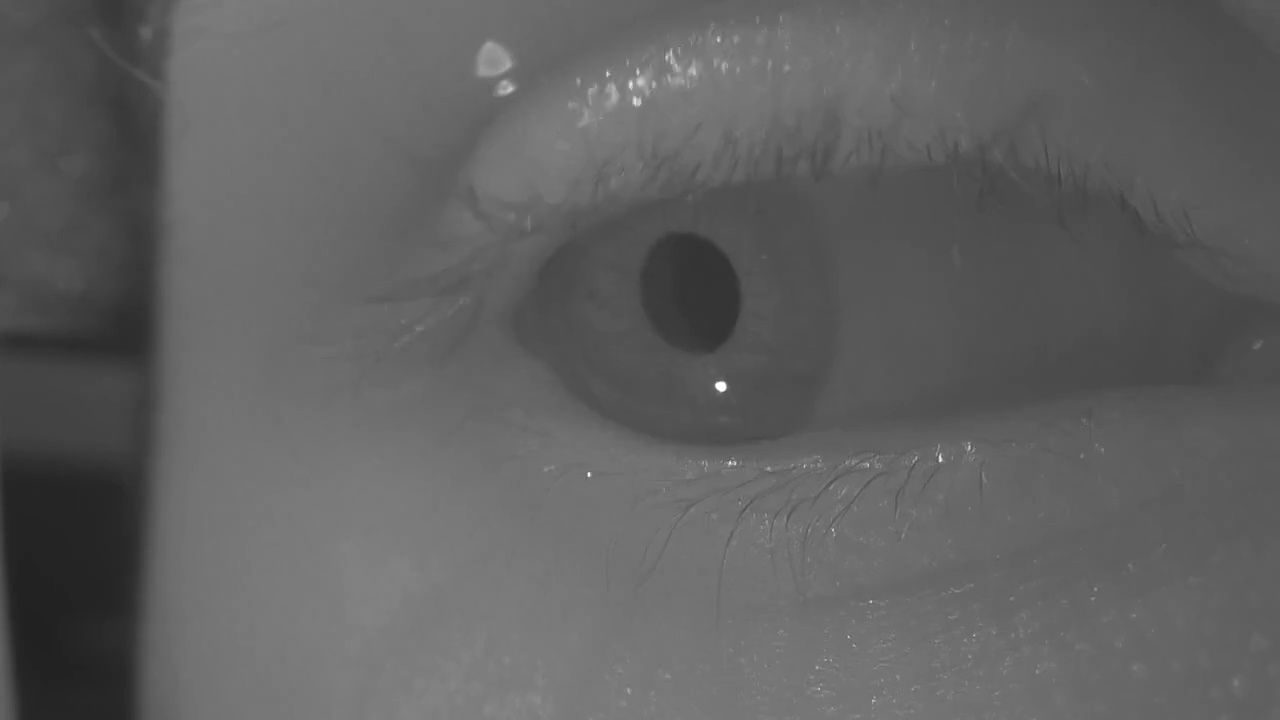pupil: (641, 232, 739, 353)
